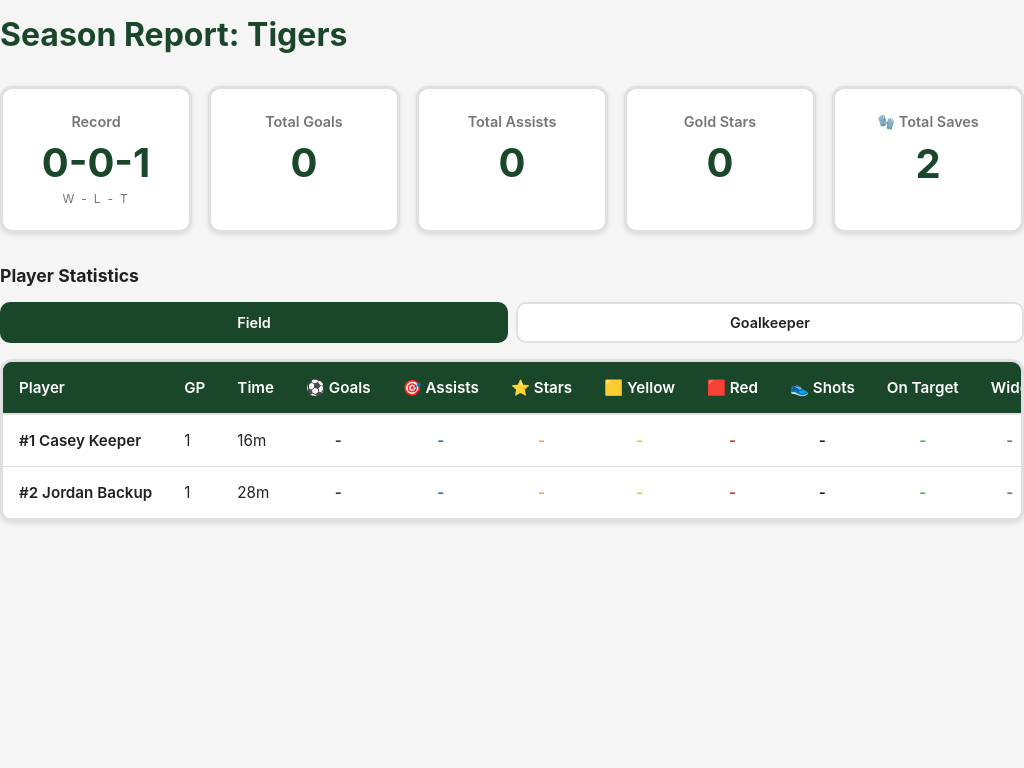
Test: TeamReport › Issue #203: Saves by Goalie › Saves list in one player drill-down never includes a save attributed to a different player
The image size is (1024, 768).
Check: the text "#1 Casey Keeper" is shown, box x1=3 y1=414 x2=168 y2=466
Click the text "#1 Casey Keeper 1 16m - - - - - - - - -" at point(514, 440), box x1=3 y1=414 x2=1023 y2=466
(page scrolled)
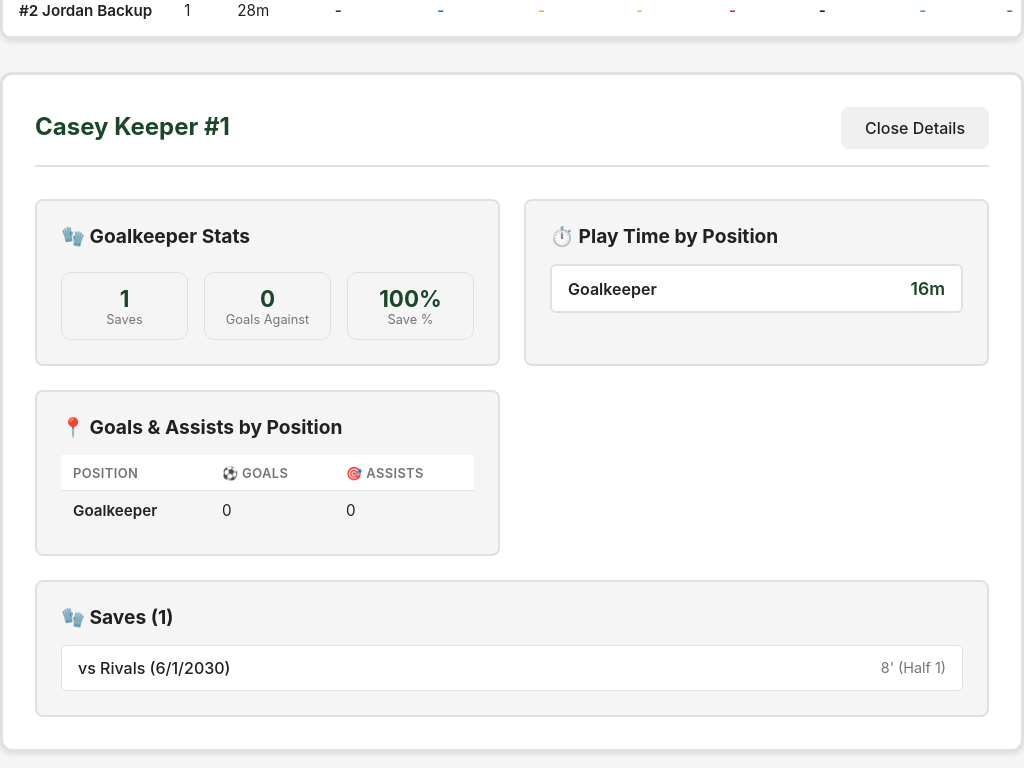
Check: the heading "🧤 Saves (1)" is shown, box x1=61 y1=604 x2=174 y2=628
